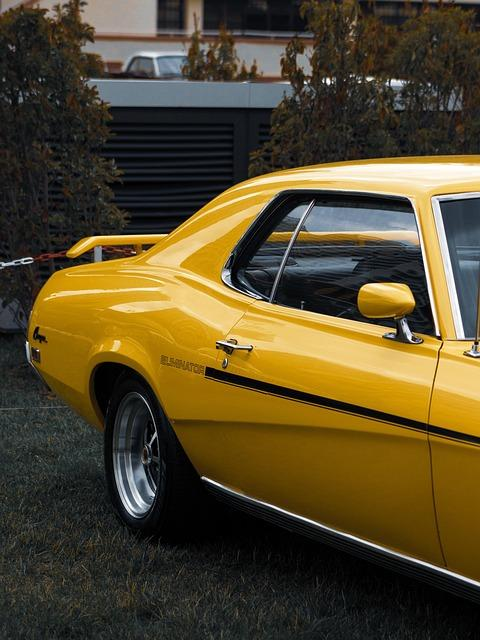Non_Gorille: (30, 122, 480, 599)
